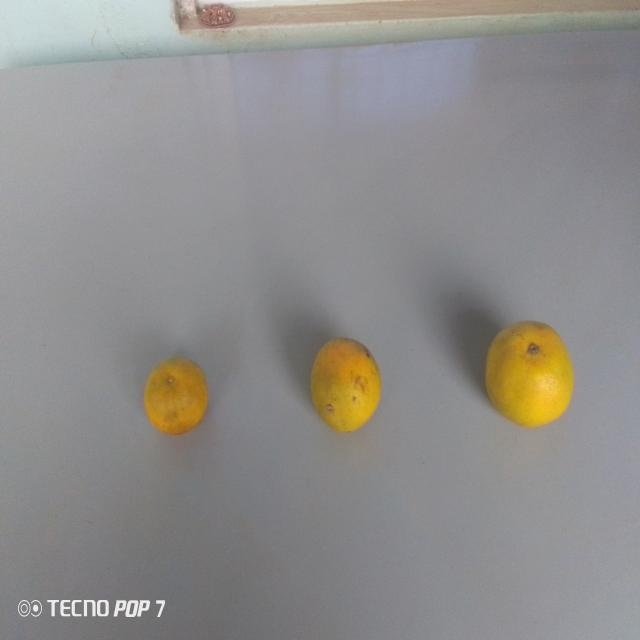agrume: (477, 318, 575, 426), (307, 323, 387, 442), (142, 342, 207, 442)
